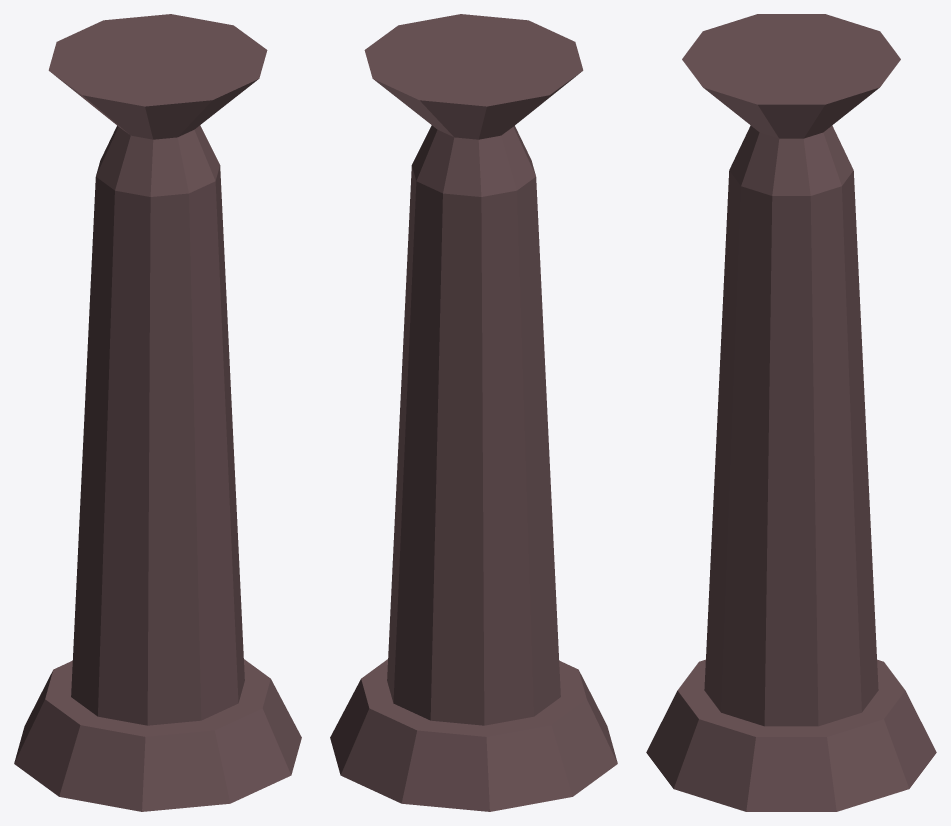
File: pillar1.fbx
3 views of the same model, side by side, from view 1: azimuth 30°, elevation 25°; view 2: azimuth 150°, elevation 25°; view 3: azimuth 270°, elevation 25° (orthographic).
Parts seen in each view (by area): view 1: Pillar; view 2: Pillar; view 3: Pillar.
Part boxes in pixels (x1,y1,x2,y2): Pillar: (14,14,301,811); Pillar: (330,14,617,811); Pillar: (646,14,936,811).
Size of the model in its own units: 22.82 by 23.57 by 62.02.
